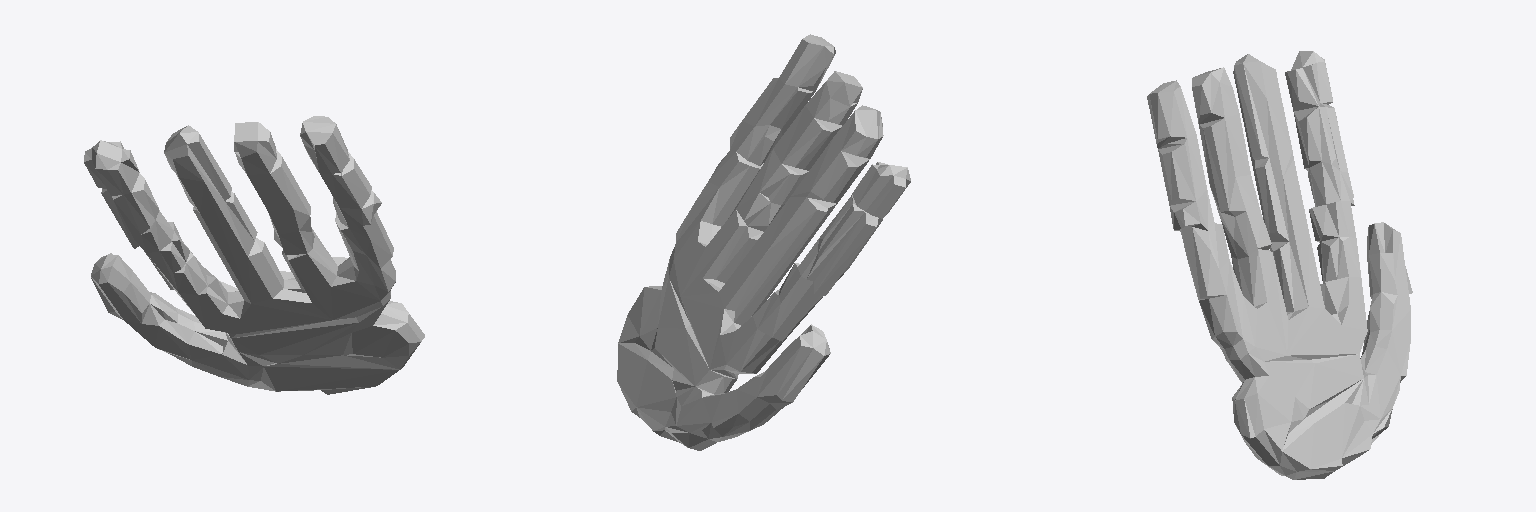
3 renders of one model, left to right at view 1: azimuth 30°, elevation 25°; view 2: azimuth 150°, elevation 25°; view 3: azimuth 270°, elevation 25°, orthographic.
Visible parts, largest first — view 1: unknown; view 2: unknown; view 3: unknown.
Part boxes in pixels (left/top/right/bottom): unknown: left=84, top=116, right=424, bottom=394; unknown: left=617, top=34, right=910, bottom=450; unknown: left=1147, top=51, right=1412, bottom=479.
Bounding box in the file's own units: 0.6913 × 0.7429 × 0.5137.